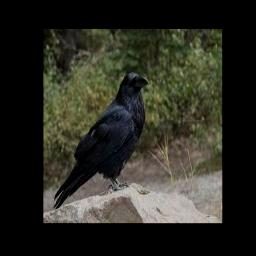Crow: (55, 71, 150, 209)
